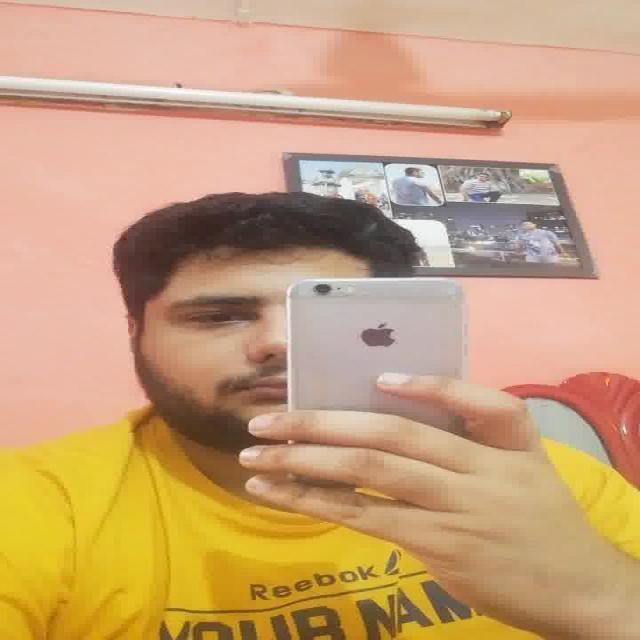Phone: (282, 276, 473, 434)
